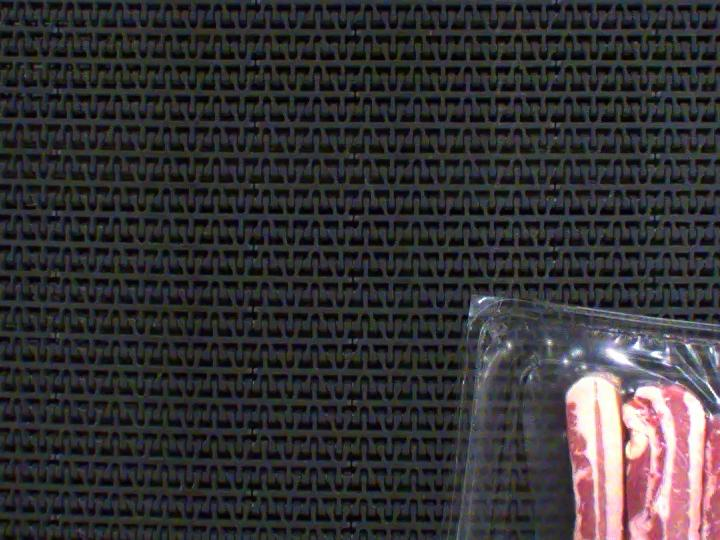unsealed: (461, 347, 720, 540)
